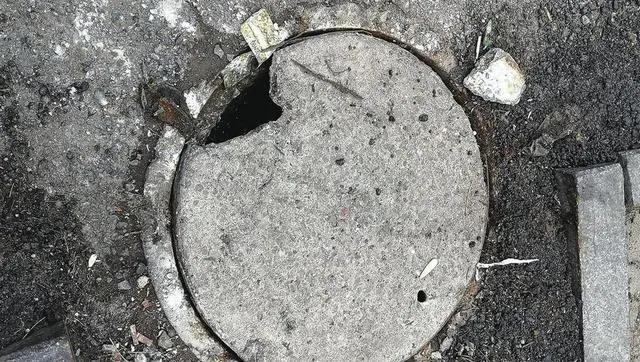wellcover: (160, 24, 472, 362)
